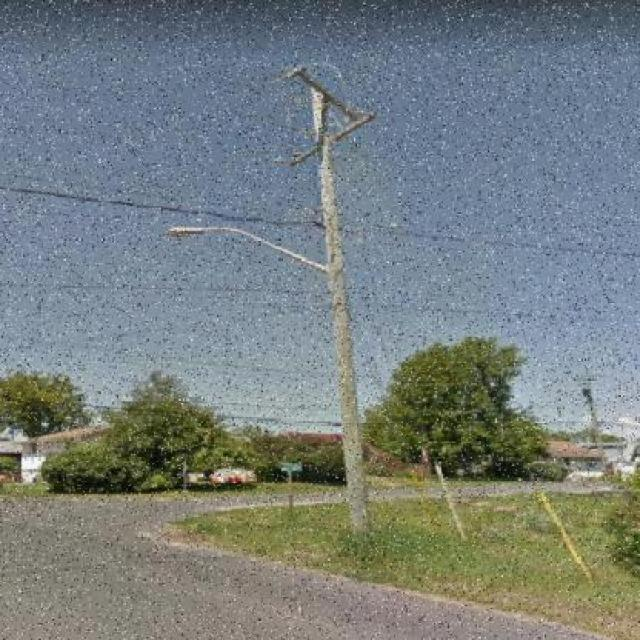pole: (150, 37, 508, 600)
